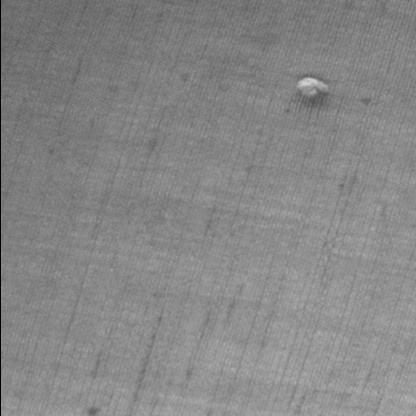objects: (294, 74, 330, 100)
